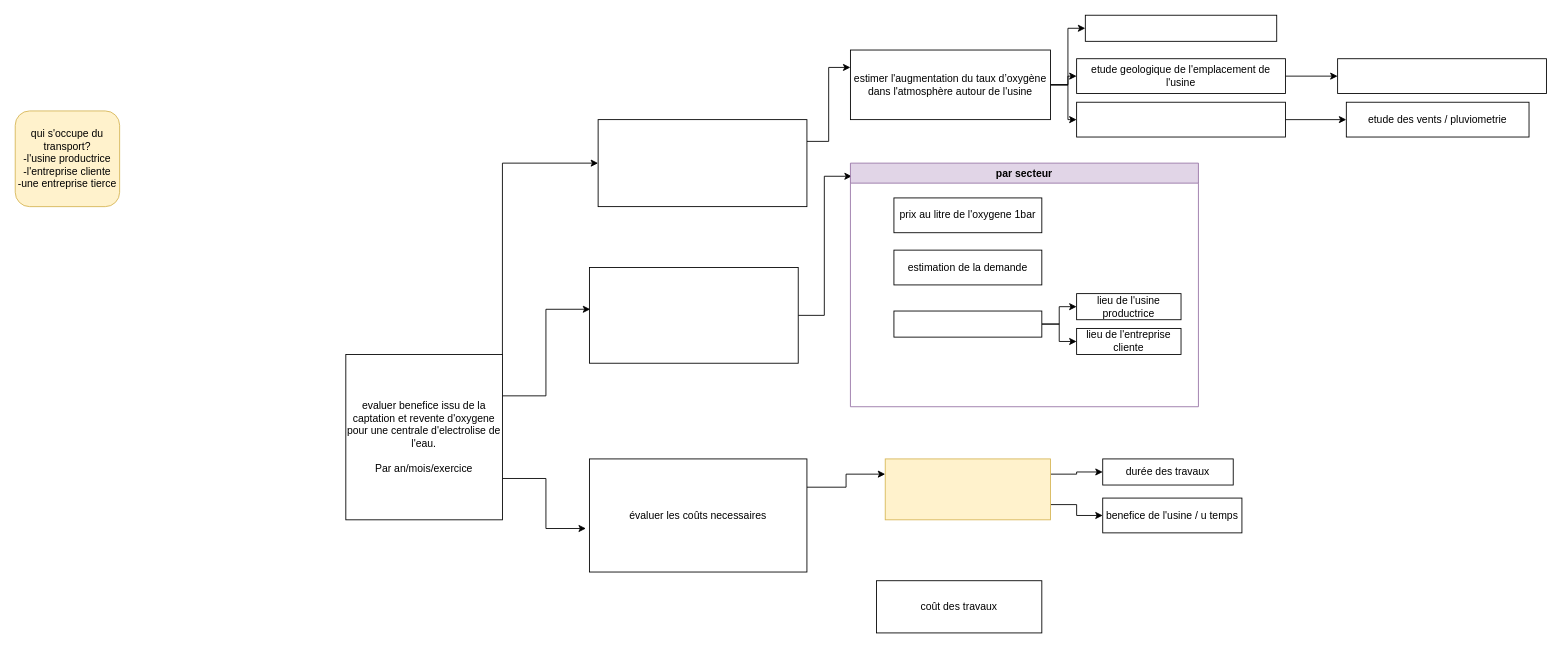
Image size: 1562x648. Some labels were removed from this diagram. The shapes that lost their labels are listed below. From the top down, each one's box as (x1, y1, x2, y2) in pixels, then its label:
(1084, 14, 1277, 41): production de l'usine / u temps
(1337, 58, 1546, 94): situé en haut d'une colline/ plateau ou dans une cuve ?
(1076, 101, 1285, 137): meteorologique
(597, 119, 807, 207): risques pour l'environnement/ santé des ouvriers et leurs potentiels coûts
(589, 267, 798, 363): évaluer les revenus générés
(893, 310, 1042, 337): coût de transport
(884, 458, 1051, 520): stopper l'usines pendant l'installation d'un module captation oxygènes ?
